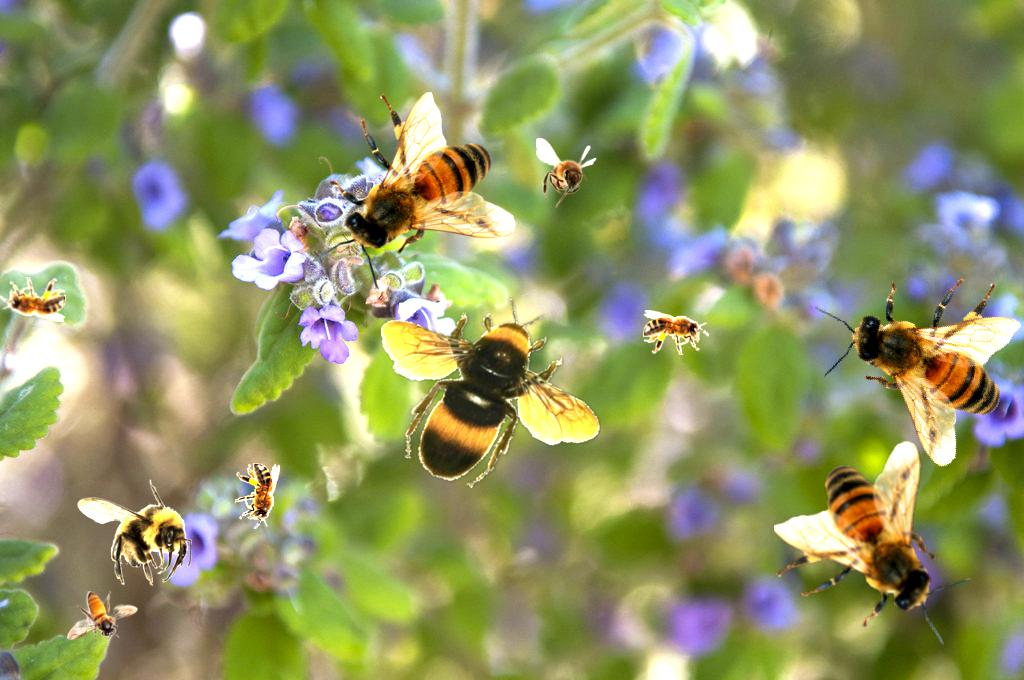Bee: (789, 221, 1024, 499), (381, 297, 601, 488), (774, 441, 973, 645), (312, 92, 516, 291), (77, 479, 192, 586), (536, 138, 597, 208), (67, 591, 138, 641), (235, 463, 280, 529), (643, 310, 709, 355), (0, 277, 66, 322)
